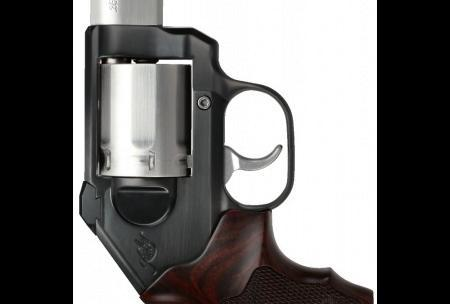gun: (75, 0, 374, 304)
